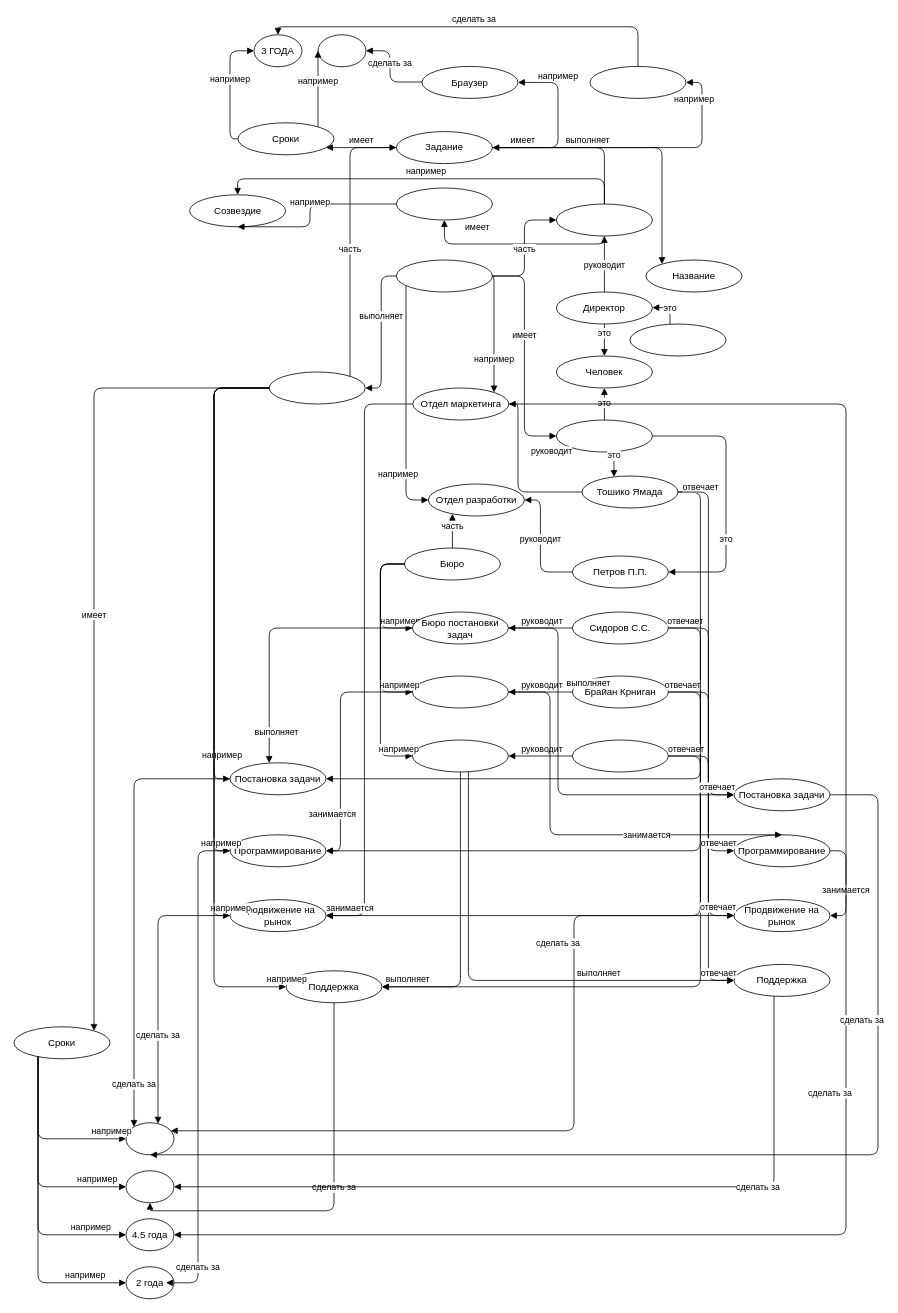
Image size: 898x1313. Some labels were removed from this diagram. The centre of each missing label's shape, as x and y in pixels:
0.5 года: point 149,1138
10 ЛЕТ: point 341,50
Бесконечн.: point 149,1186
Билл Гейтс: point 620,755
Бюро программир.: point 460,691
Бюро сопровождения: point 460,755
Иванов И.И.: point 677,339
Наименвоание: point 444,203
Начальник: point 604,435
Отдел: point 444,275
Предприятие: point 604,219
Текстовый редактор: point 637,82
Этап: point 316,387
